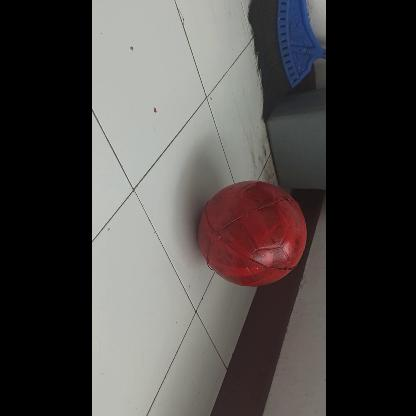red_ball: (195, 180, 306, 290)
